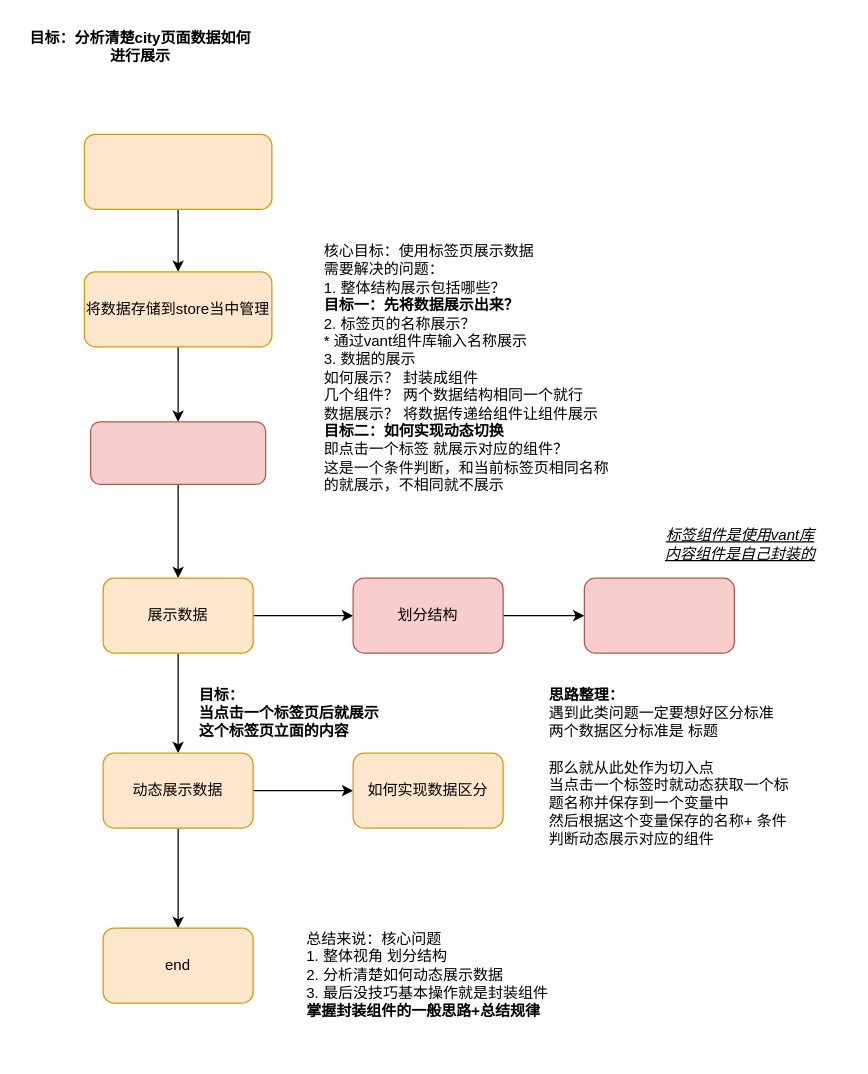
The diagram is 868 pixels wide and 1074 high, and some of its shapes have lost their labels. The centre of each missing label's shape, as x and y in pixels:
使用vant-tab进行展示: the point at 177,452
总体来说两个 一个标签组件+内容组件: the point at 658,615
调用store的action 发送请求获取数据: the point at 177,171
